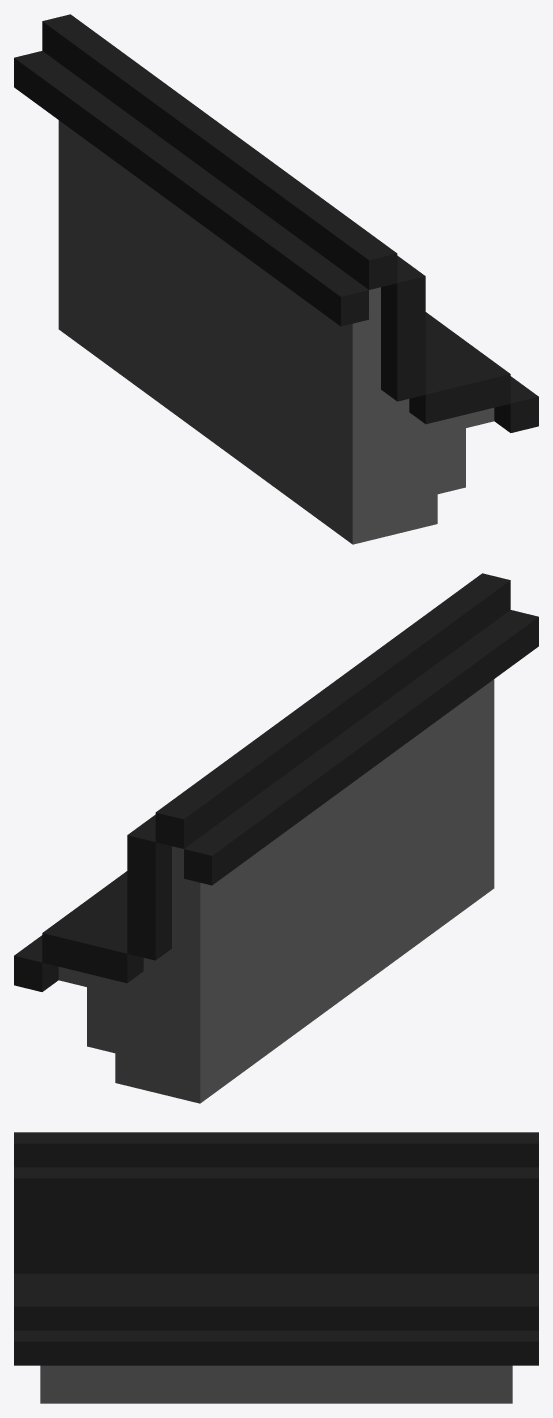
File: Bench0.obj
The picture shows the model from 3 angles, top to bottom: view 1: azimuth 30°, elevation 25°; view 2: azimuth 150°, elevation 25°; view 3: azimuth 270°, elevation 25°; orthographic projection. The views are drawn at different scales.
Size of the model in its own units: 0.7 by 1 by 2.
1 material, 1 textured.
